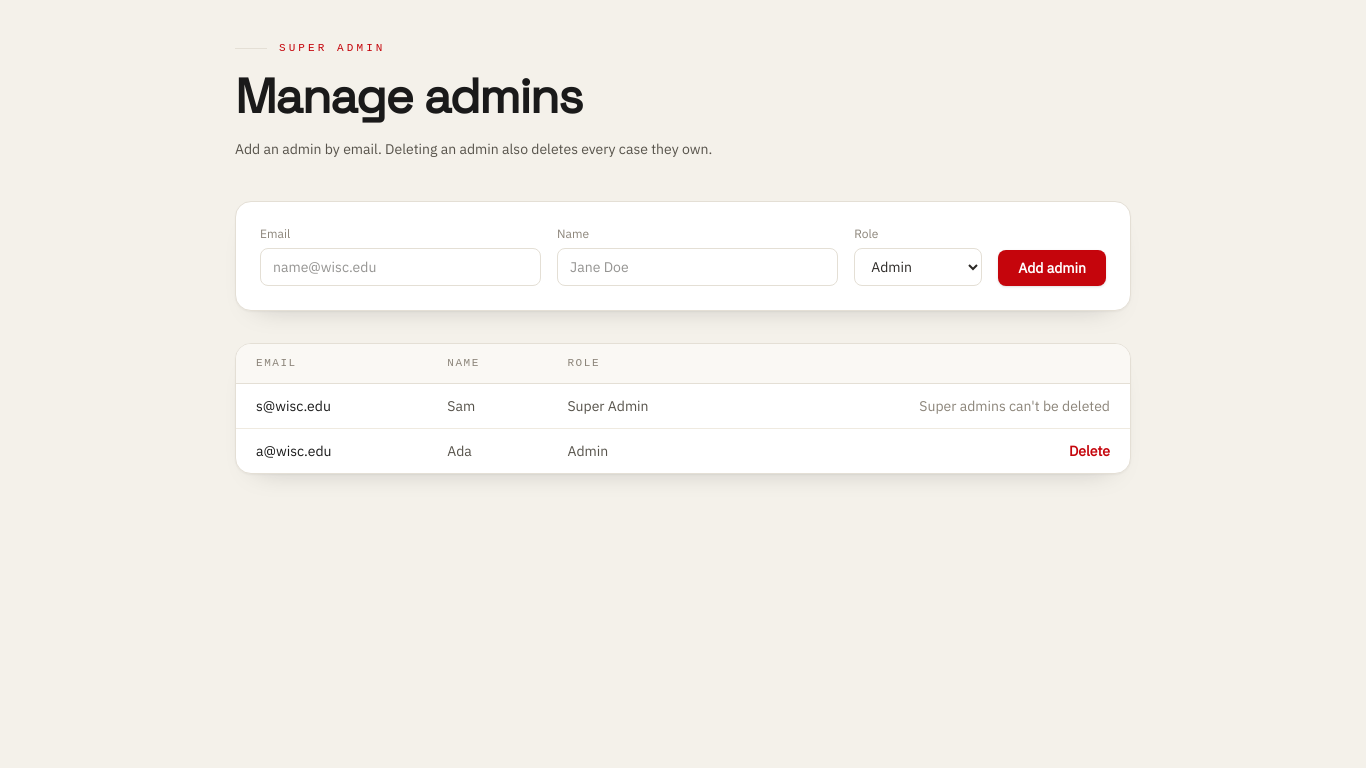
deleting an admin › confirms first, and cancelling deletes nothing
Click the button "Delete" at {"x": 1089, "y": 451}, box [1069, 441, 1110, 461]
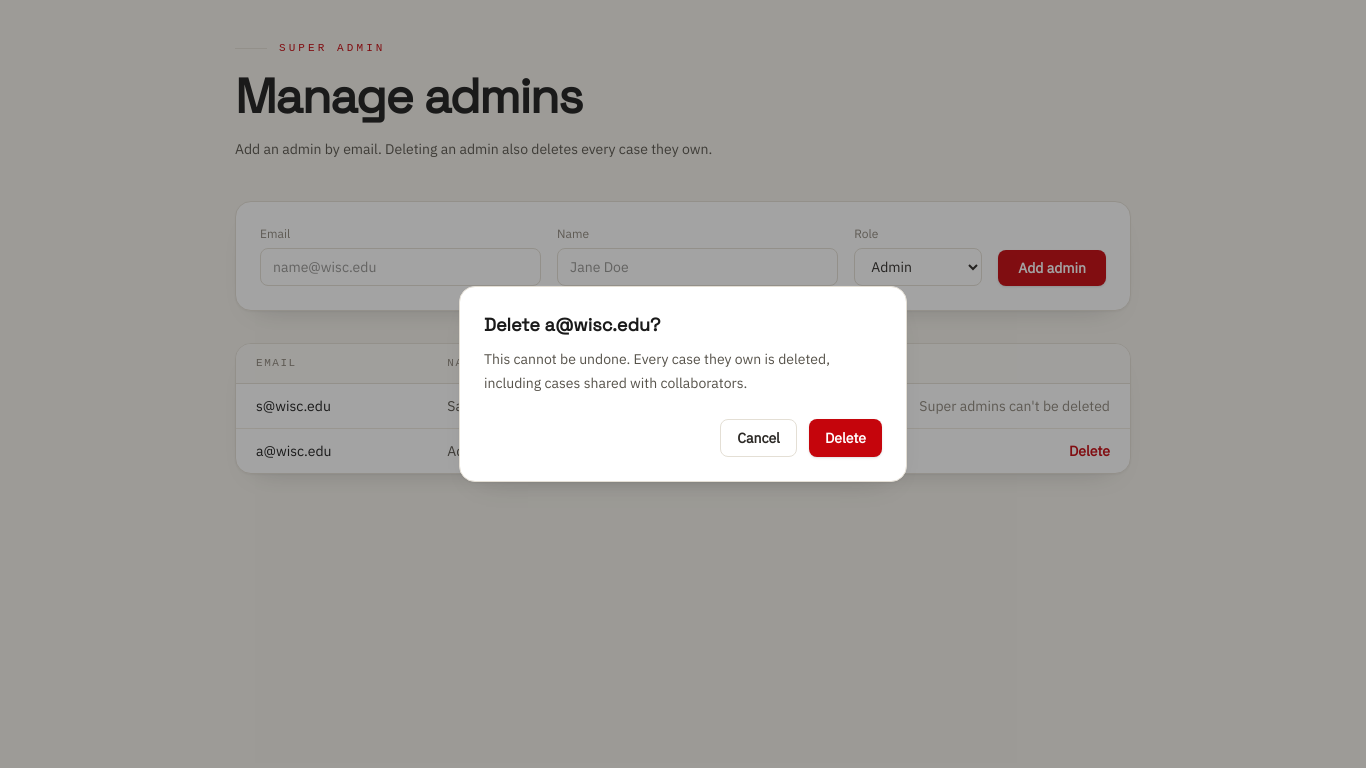
Result: the heading "Delete a@wisc.edu?" is shown at [484, 313, 660, 336]
Click the button "Cancel" at {"x": 759, "y": 438}, box [720, 419, 797, 457]
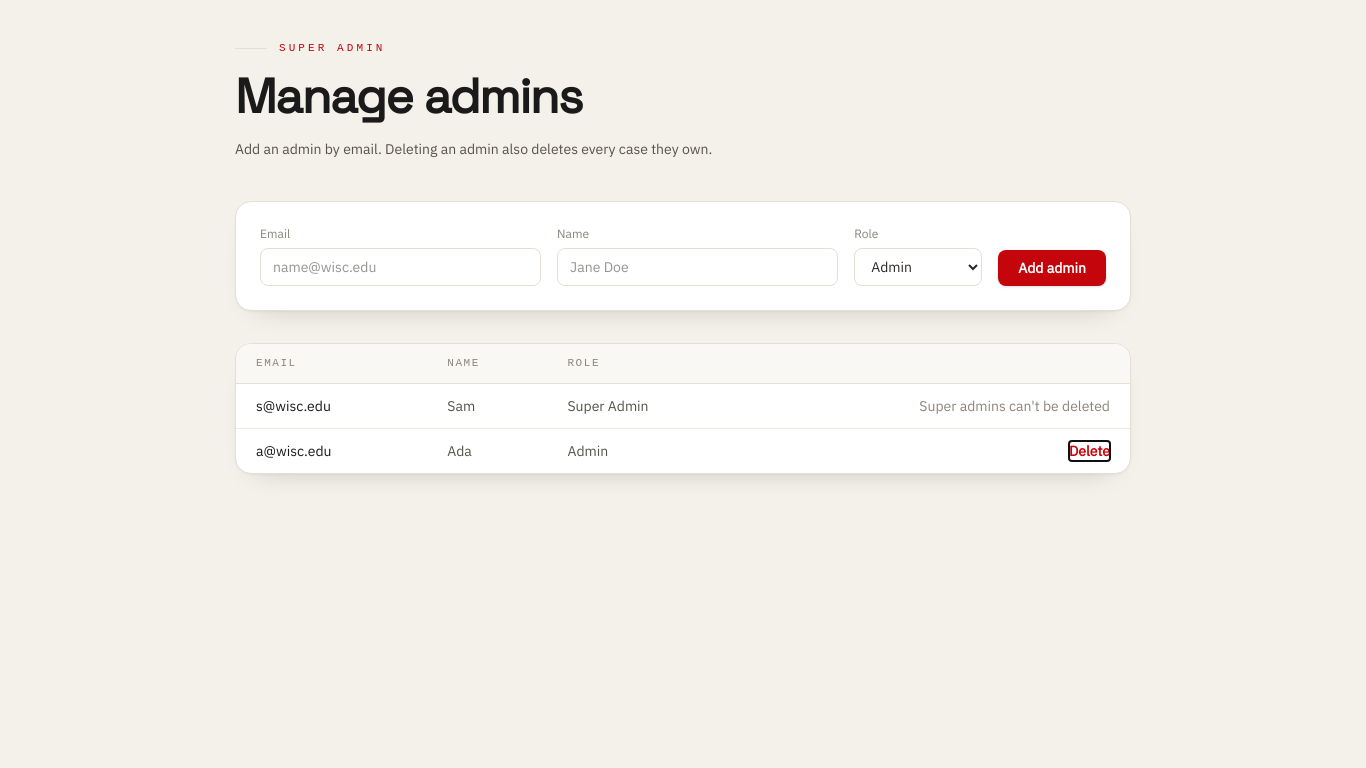
Result: the heading "Delete a@wisc.edu?" is gone
